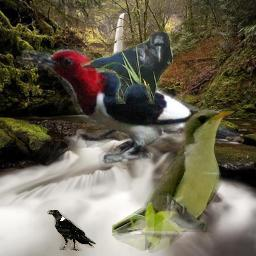Crow: (80, 31, 173, 104), (47, 210, 96, 251)
Cuckoo: (112, 105, 237, 253)
Woodpecker: (16, 44, 240, 169)
